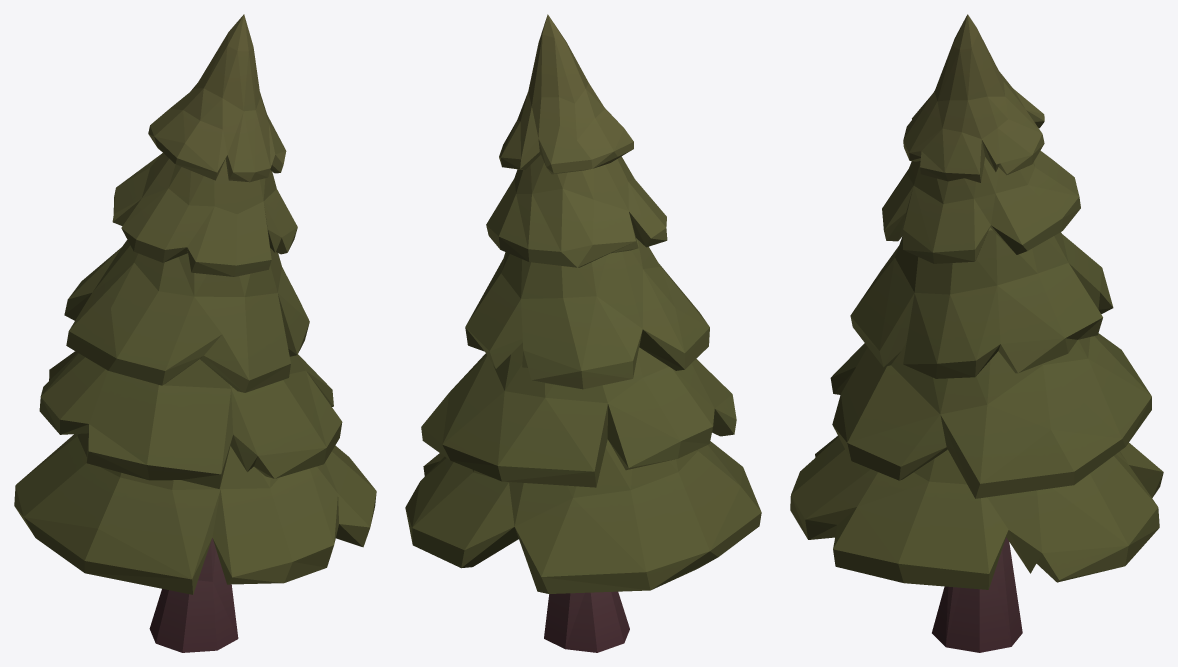
File: tree.fbx
The picture shows the model from 3 angles, left to right: view 1: azimuth 30°, elevation 25°; view 2: azimuth 150°, elevation 25°; view 3: azimuth 270°, elevation 25°; orthographic projection. The views are drawn at different scales.
Visible parts, largest first — view 1: Lowpoly_Tree_07; view 2: Lowpoly_Tree_07; view 3: Lowpoly_Tree_07.
Part boxes in pixels (x1=…): Lowpoly_Tree_07: x1=14, y1=14, x2=376, y2=652; Lowpoly_Tree_07: x1=405, y1=14, x2=761, y2=652; Lowpoly_Tree_07: x1=790, y1=14, x2=1163, y2=652.
Size of the model in its own units: 98.32 by 187 by 98.74.
